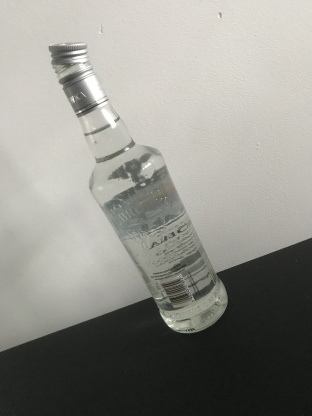nakretka: (47, 39, 109, 119)
